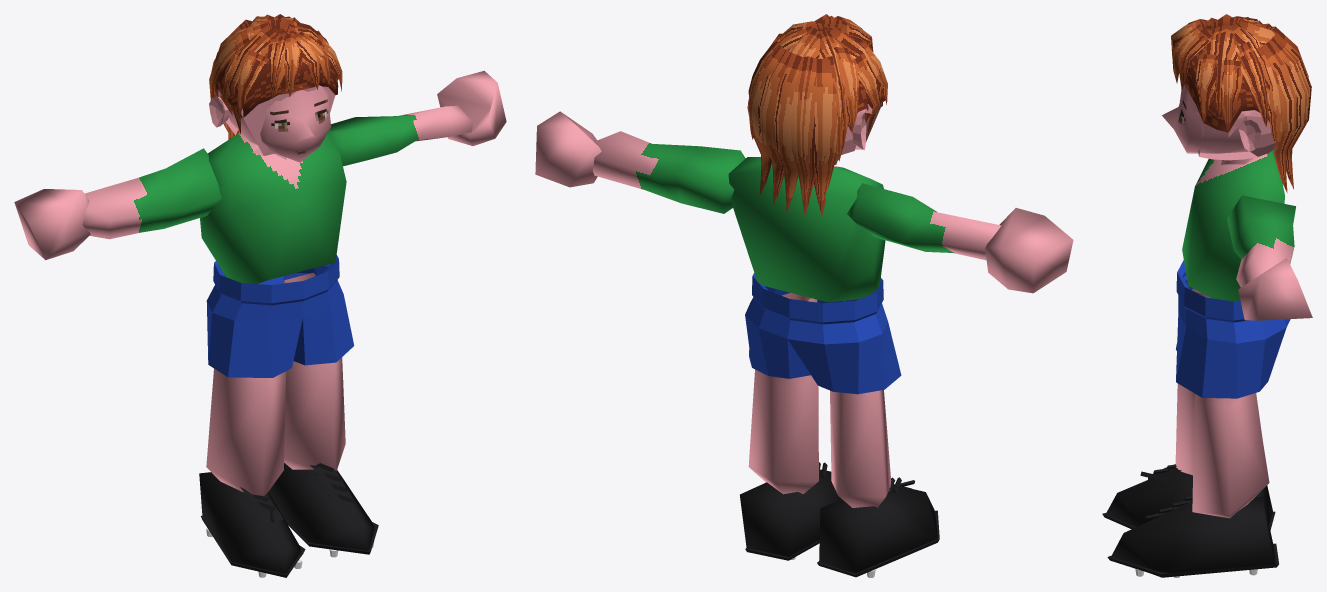
Rendered from 07-mullet_ruivo.glb.
The picture shows the model from 3 angles, left to right: view 1: azimuth 30°, elevation 25°; view 2: azimuth 150°, elevation 25°; view 3: azimuth 270°, elevation 25°; orthographic projection. The views are drawn at different scales.
Visible parts, largest first — view 1: Camisa_Tronco, Bermuda, Cabelo, Perna.R, Braco.R, Perna.L, Chuteira.R, Chuteira.L, Braco.L, Mao.R, Cabeca, Mao.L (+3 smaller); view 2: Cabelo, Camisa_Tronco, Bermuda, Perna.L, Braco.L, Chuteira.R, Perna.R, Braco.R, Mao.R, Chuteira.L, Mao.L, Chuteira_Sola.R; view 3: Cabelo, Bermuda, Chuteira.L, Camisa_Tronco, Perna.L, Braco.L, Mao.L, Chuteira.R, Cabeca, Perna.R, Cranio, Chuteira_Sola.L (+3 smaller).
Boxes of the visible parts, box(x1,y1,x2,y2) form: Camisa_Tronco: box(200, 133, 346, 283); Bermuda: box(206, 255, 354, 377); Cabelo: box(209, 14, 342, 139); Perna.R: box(206, 368, 286, 500); Braco.R: box(82, 148, 222, 239); Perna.L: box(284, 272, 345, 471); Chuteira.R: box(199, 472, 303, 573); Chuteira.L: box(269, 463, 374, 550); Braco.L: box(328, 105, 473, 166); Mao.R: box(14, 189, 90, 260); Cabeca: box(221, 85, 331, 162); Mao.L: box(437, 70, 506, 145); Cabelo: box(748, 14, 887, 216); Camisa_Tronco: box(728, 157, 885, 302); Bermuda: box(745, 273, 901, 394); Perna.L: box(748, 293, 818, 494); Braco.L: box(593, 131, 745, 213); Chuteira.R: box(819, 484, 937, 572); Perna.R: box(830, 390, 891, 507); Braco.R: box(847, 183, 1001, 260); Mao.R: box(985, 208, 1073, 293); Chuteira.L: box(740, 469, 841, 556); Mao.L: box(535, 111, 601, 187); Chuteira_Sola.R: box(817, 510, 939, 577); Cabelo: box(1171, 14, 1311, 192); Bermuda: box(1176, 260, 1290, 398); Chuteira.L: box(1111, 497, 1276, 577); Camisa_Tronco: box(1182, 149, 1284, 301); Perna.L: box(1192, 393, 1269, 518); Braco.L: box(1227, 195, 1295, 287); Mao.L: box(1238, 258, 1312, 320); Chuteira.R: box(1106, 467, 1272, 526); Cabeca: box(1162, 85, 1248, 153); Perna.R: box(1175, 288, 1262, 475); Cranio: box(1198, 110, 1275, 160); Chuteira_Sola.L: box(1107, 543, 1278, 577).
Size of the model in its own units: 0.4523 by 0.4501 by 0.1617.
3 materials, 3 textured.
